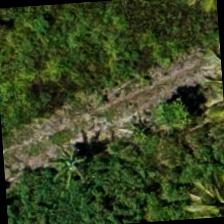Kelapa_Sawit: (165, 157, 223, 220)
